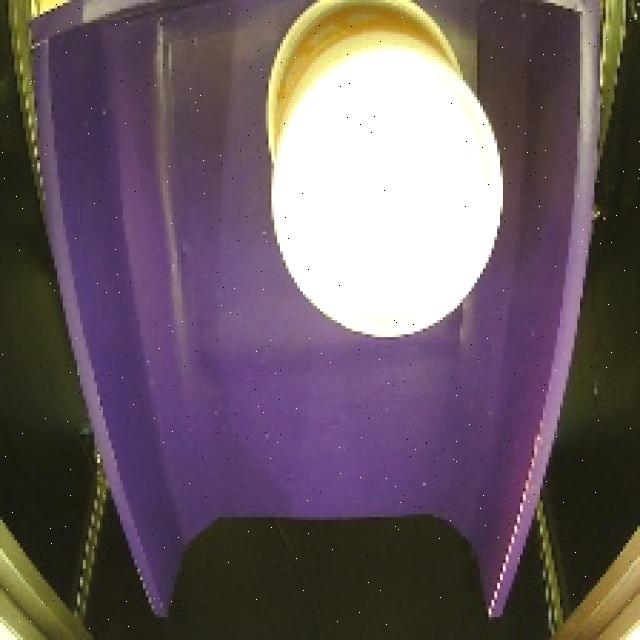cups: (251, 0, 510, 350)
